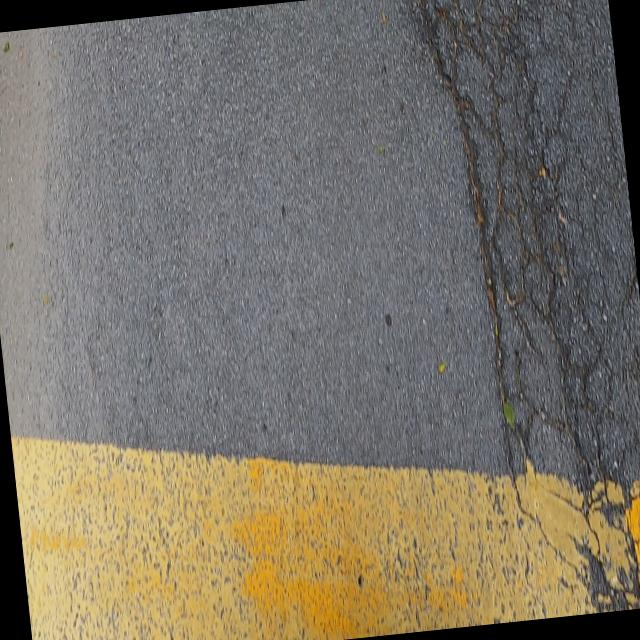Retak-Buaya: (411, 0, 640, 610)
